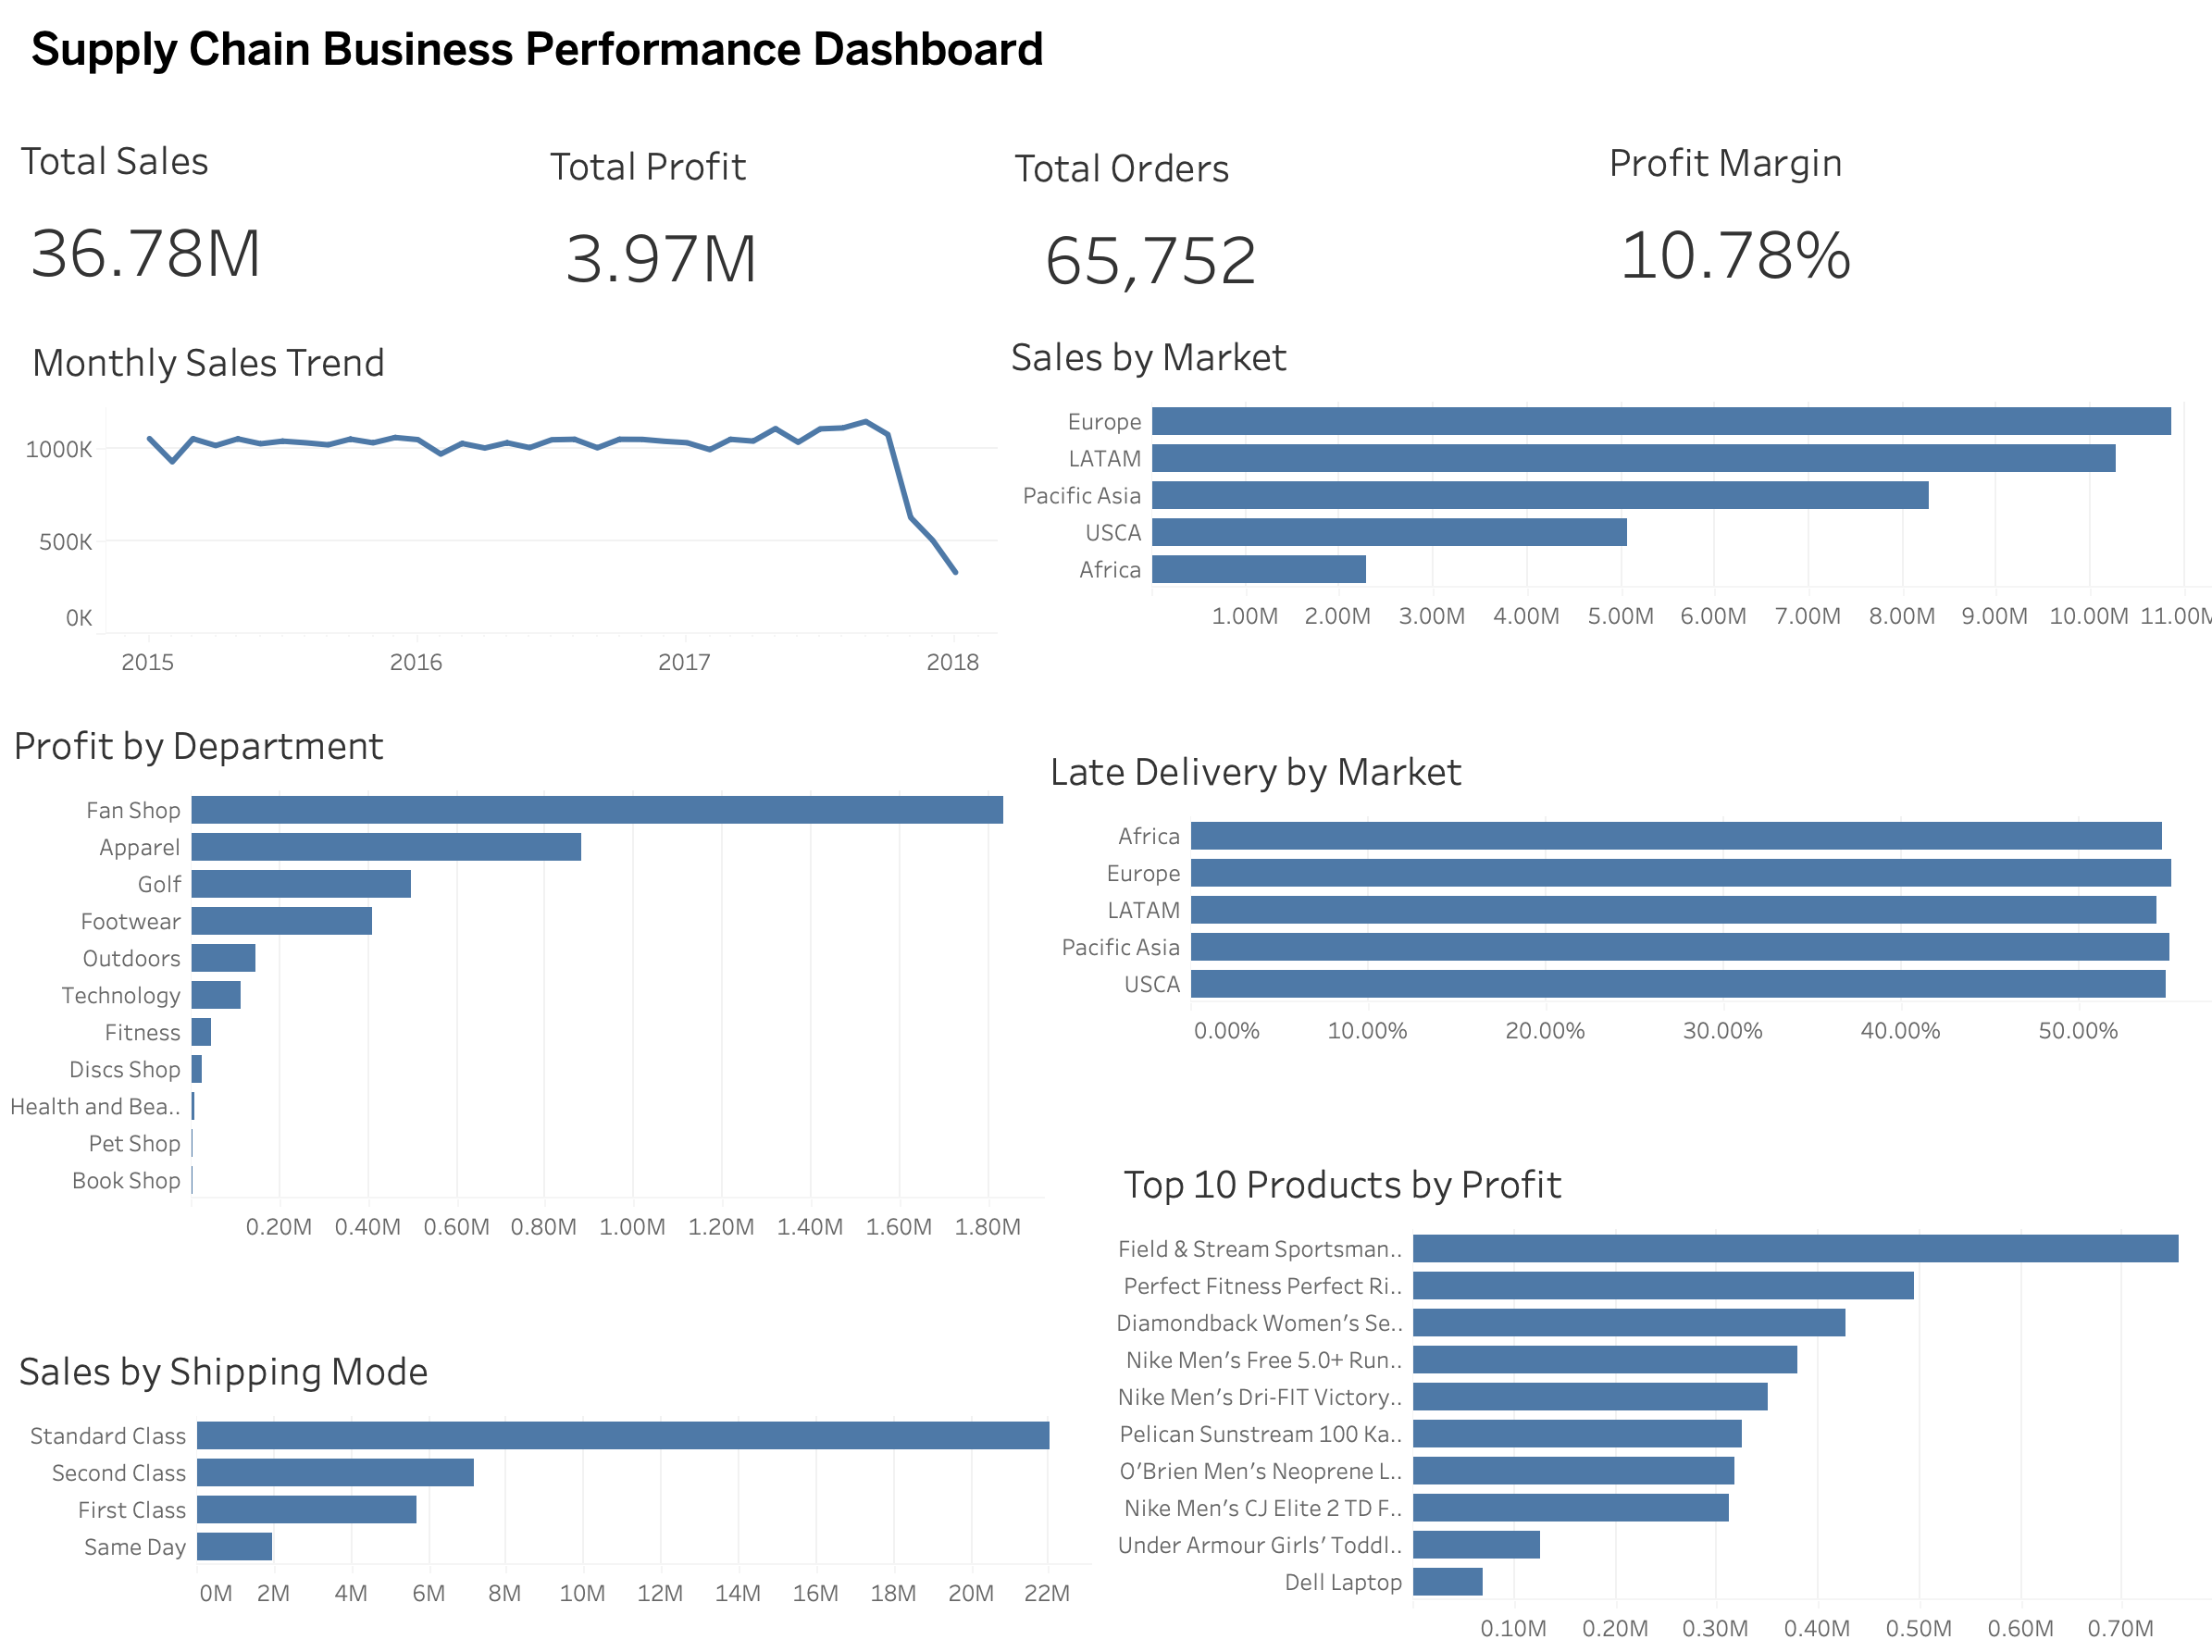

This screenshot's page, from the dashboard's own definition file:
{"tool":"tableau","page":{"name":"Dashboard 1","canvas":[1200,950],"ordinal":0},"visuals":[{"type":"title","box":[8,8,1184,37]},{"type":"worksheet","title":"Total Sales","mark":"Automatic","box":[5,68,279,110]},{"type":"worksheet","title":"Profit Margin","mark":"Automatic","box":[863,69,342,109]},{"type":"worksheet","title":"Total Profit","mark":"Automatic","box":[291,71,185,96]},{"type":"worksheet","title":"Total Orders","mark":"Automatic","box":[542,72,271,98]},{"type":"worksheet","title":"Sales by Market","mark":"Automatic","rows":["Market"],"cols":["Sales"],"box":[540,174,659,258]},{"type":"worksheet","title":"Monthly Sales Trend","mark":"Line","rows":["Sales"],"cols":["order_date"],"box":[11,177,526,195]},{"type":"worksheet","title":"Profit by Department","mark":"Automatic","rows":["Department Name"],"cols":["profit"],"box":[1,384,563,421]},{"type":"worksheet","title":"Late Delivery by Market","mark":"Automatic","rows":["Market"],"cols":["Late_delivery_risk"],"box":[561,398,637,275]}]}

Visuals, with their boxes on the page's 1200x950 design canvas (x1, y1, x2, y2). These are canvas units, not pixel positions in the 2212x1652 screenshot, which may show the page scaled, cropped or inside an application window:
title: left=8, top=8, right=1192, bottom=45
"Total Sales" worksheet: left=5, top=68, right=284, bottom=178
"Profit Margin" worksheet: left=863, top=69, right=1205, bottom=178
"Total Profit" worksheet: left=291, top=71, right=476, bottom=167
"Total Orders" worksheet: left=542, top=72, right=813, bottom=170
"Sales by Market" worksheet: left=540, top=174, right=1199, bottom=432
"Monthly Sales Trend" worksheet (Line marks): left=11, top=177, right=537, bottom=372
"Profit by Department" worksheet: left=1, top=384, right=564, bottom=805
"Late Delivery by Market" worksheet: left=561, top=398, right=1198, bottom=673
